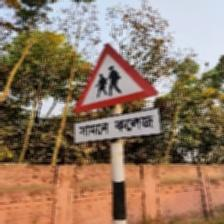College-in-front: (52, 32, 173, 156)
